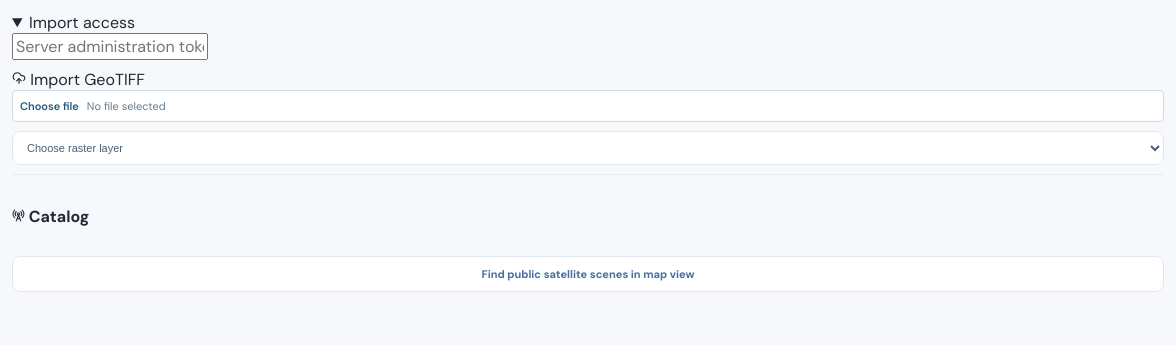
Test case: raster controls › handles catalog results, empty results, and provider error
The width and height of the screenshot is (1176, 345).
Click the button "Find public satellite scenes in map view": (588, 274) [12, 256, 1164, 292]
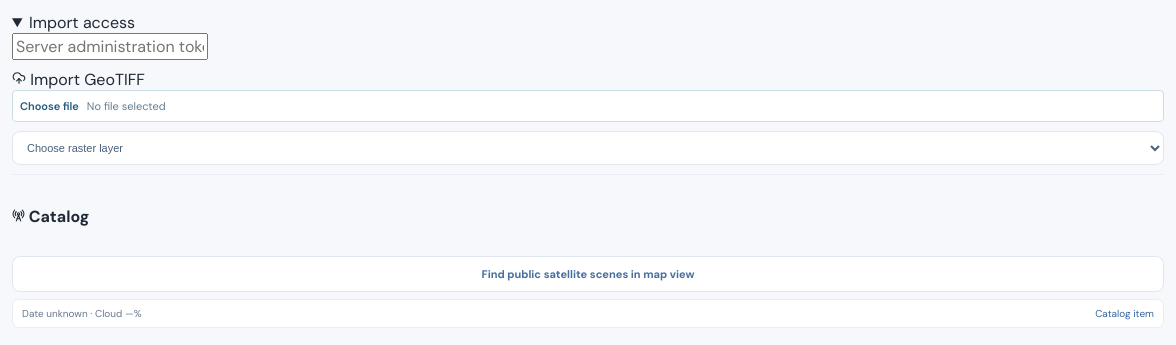
Check: the text "Date unknown · Cloud —%" is shown, box [22, 306, 142, 320]
Click the button "Find public satellite scenes in map view": (588, 274) [12, 256, 1164, 292]
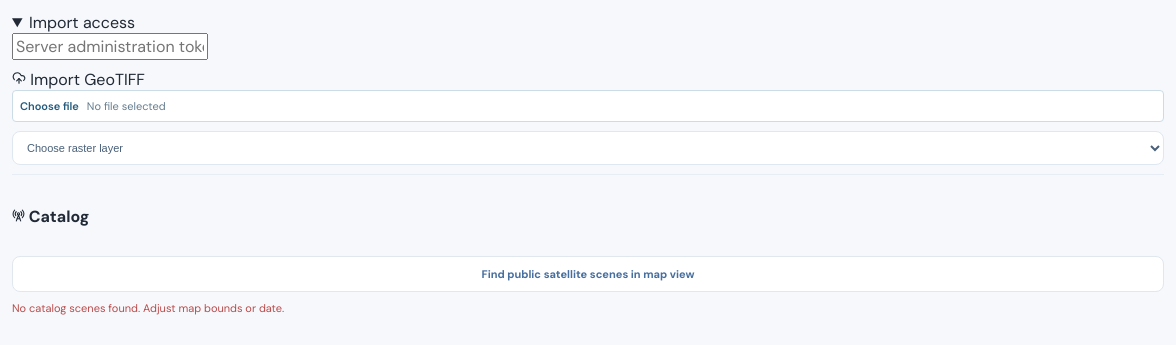
Check: the text "No catalog scenes found. Adjust map bounds or date." is shown, box [12, 300, 284, 314]
Click the button "Find public satellite scenes in map view": (588, 274) [12, 256, 1164, 292]
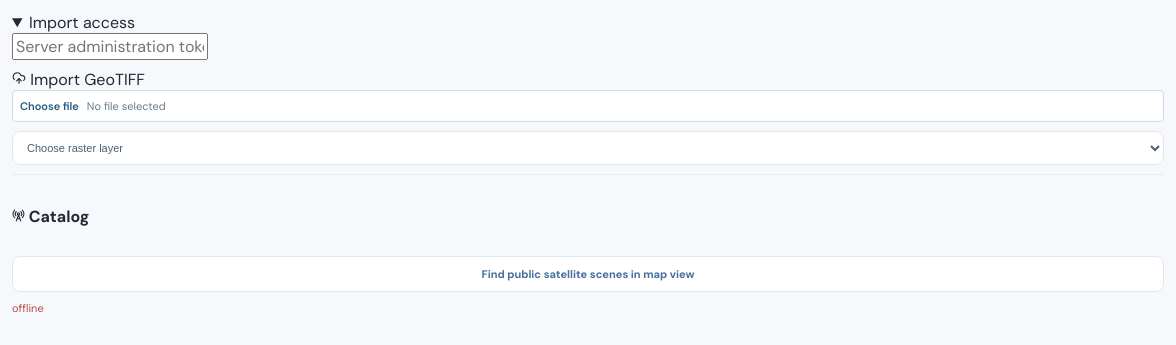
Check: the text "offline" is shown, box [12, 300, 44, 314]
